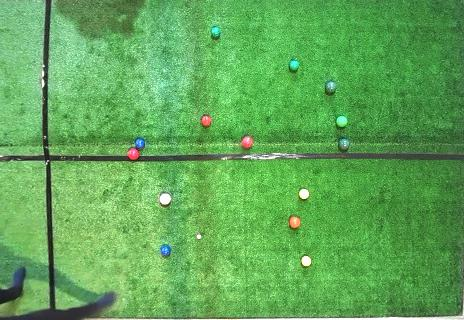blue: (160, 245, 171, 257), (135, 138, 145, 149)
green: (325, 81, 337, 94), (336, 116, 348, 127), (338, 139, 350, 149), (211, 27, 221, 38), (289, 60, 299, 71)
red: (241, 135, 254, 149), (128, 147, 139, 160), (160, 193, 171, 205), (289, 217, 300, 228), (201, 115, 211, 127)
vline: (1, 1, 56, 309), (459, 1, 463, 319)
white: (197, 235, 201, 239)
yellow: (299, 188, 310, 199), (301, 256, 312, 266)
